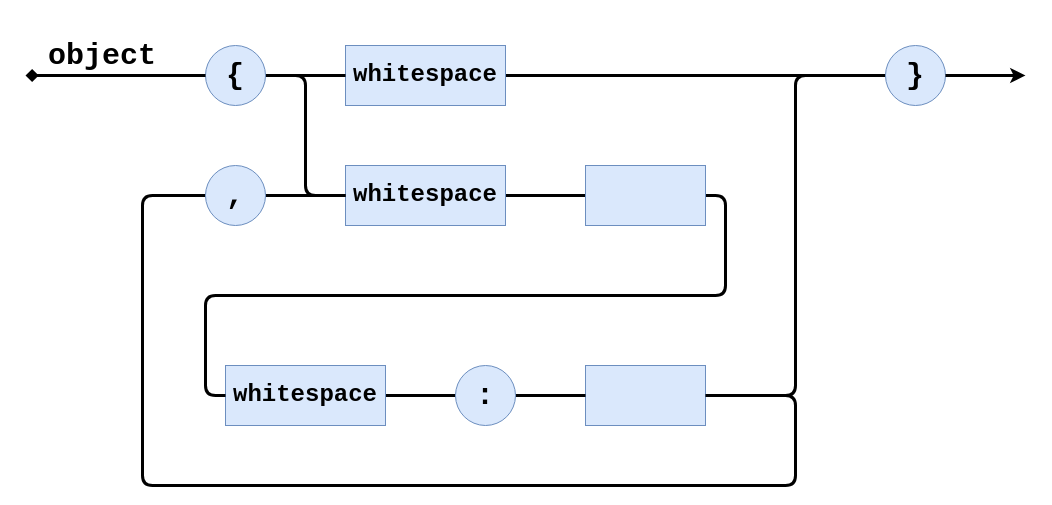
Image size: 1052x505. Some labels were removed from this diagram. Each missing label, with the box of its shape:
string: (584, 164, 706, 226)
value: (584, 364, 706, 426)
